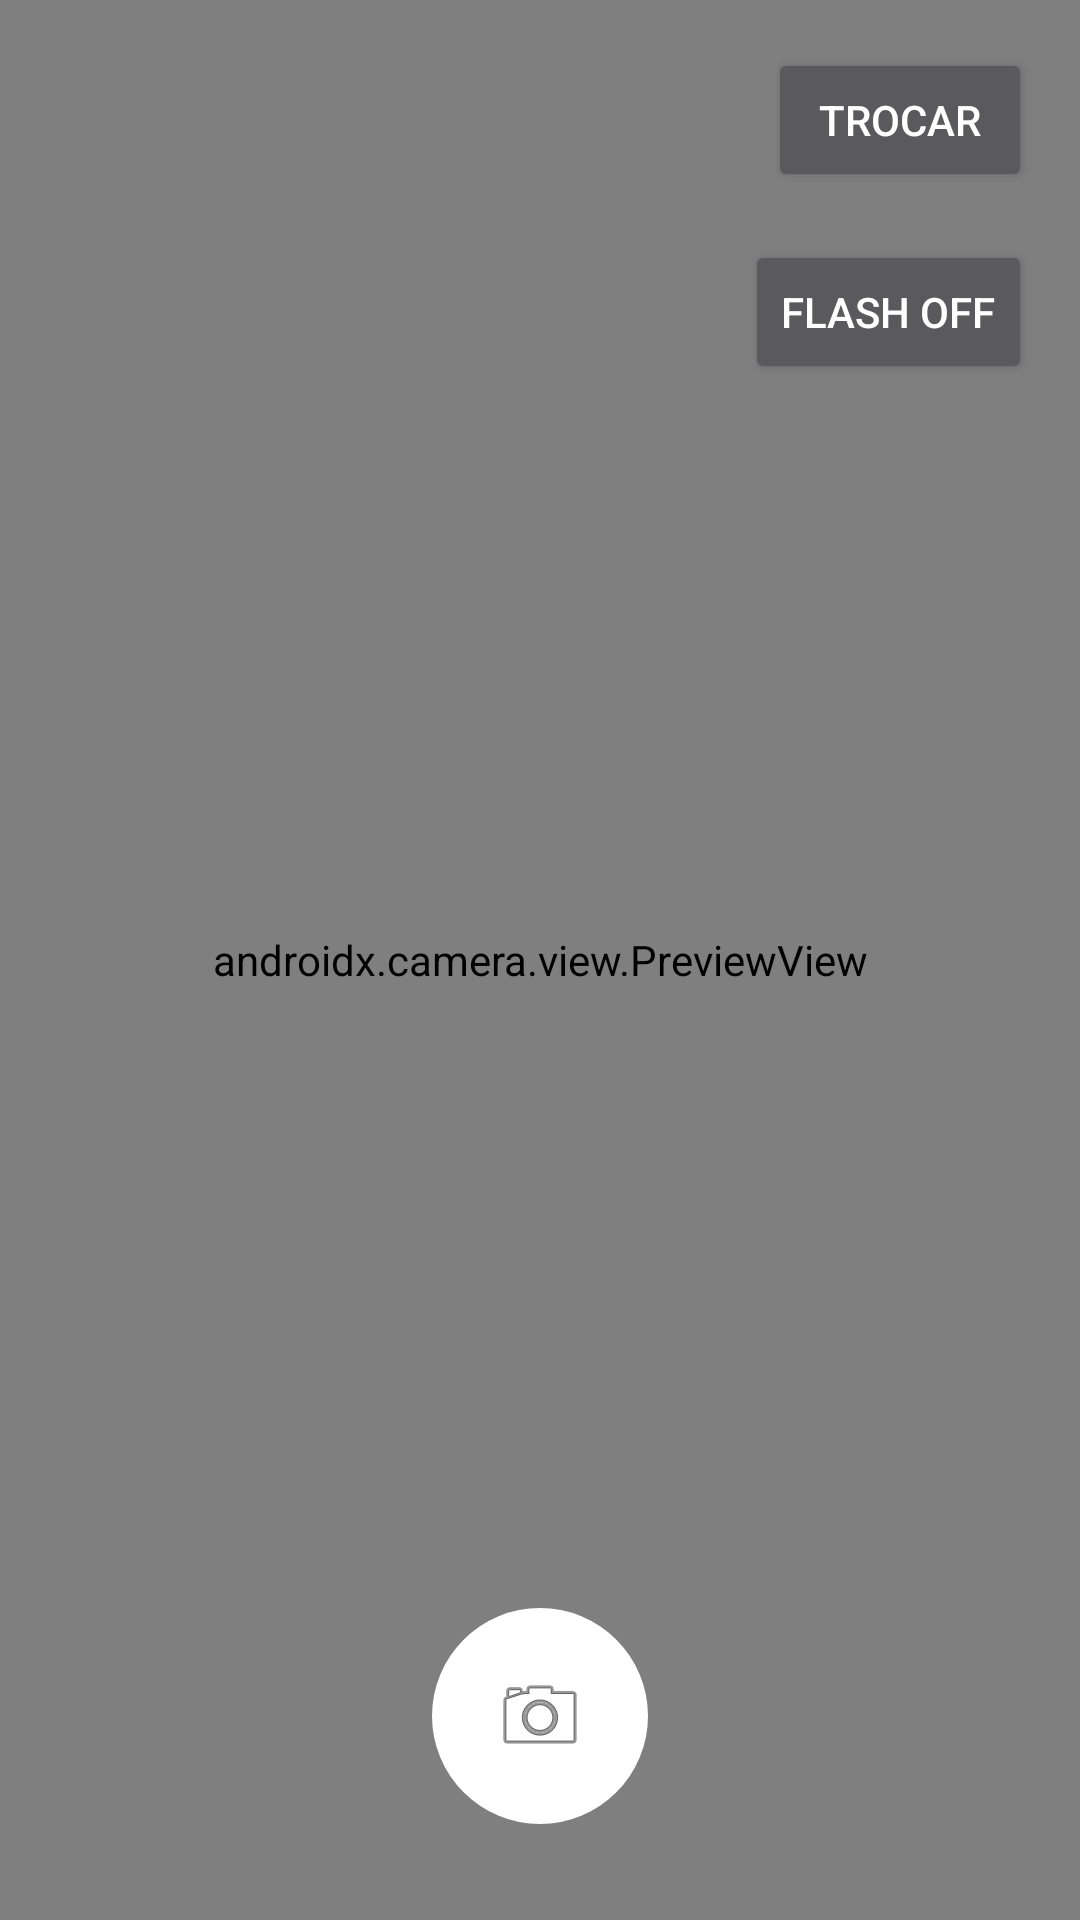

Where icons sit on this 1080px×1920px app screen, as {"x1": x1, "y1": y1, "x2": x2, "y2": y2}:
Capturar imagem: {"x1": 432, "y1": 1608, "x2": 648, "y2": 1824}
